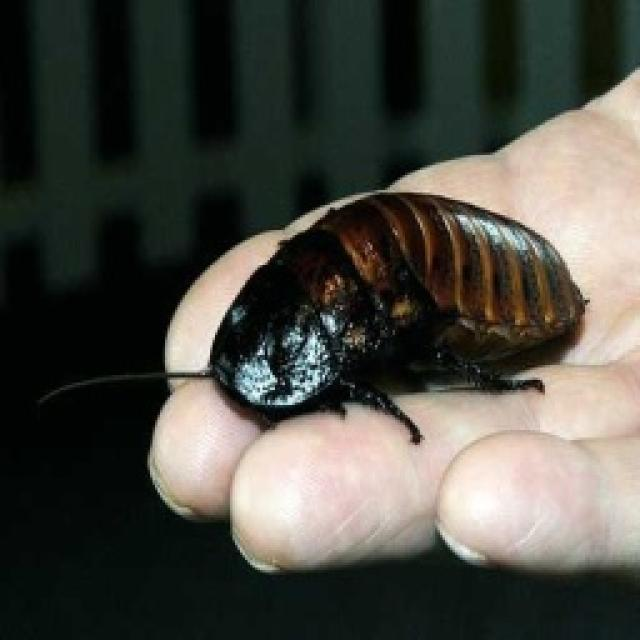cockroach: (155, 184, 597, 452)
